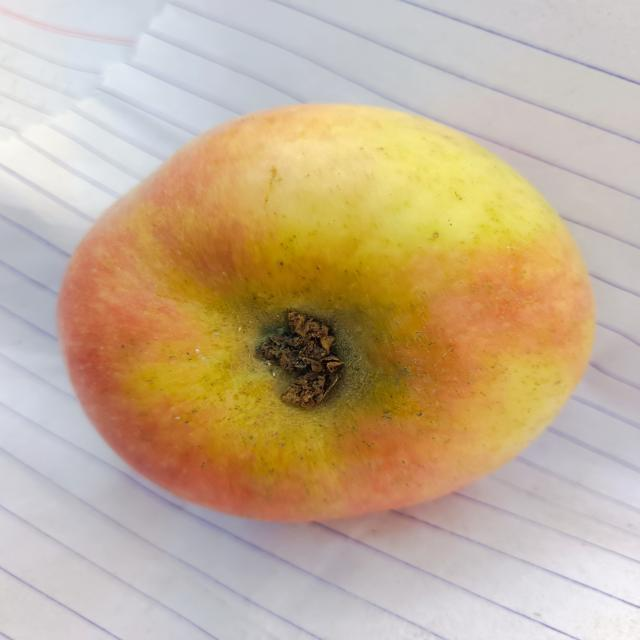Fresh Apple: (49, 102, 594, 526)
